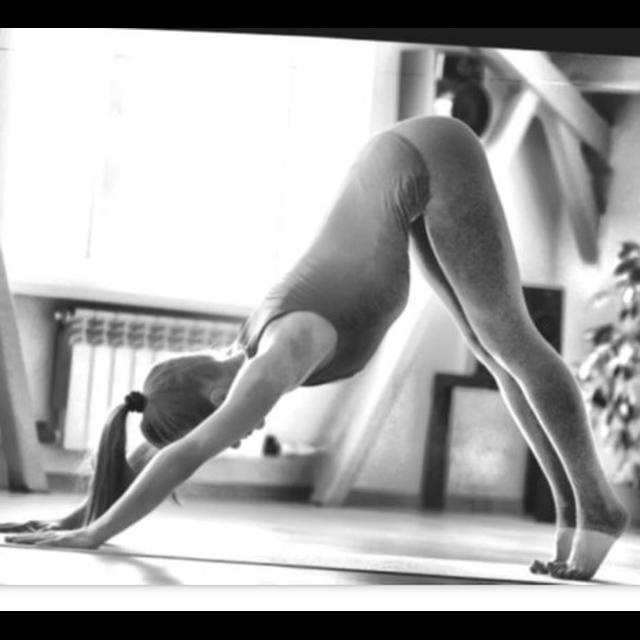Downward-Facing_Dog: (6, 108, 631, 585)
